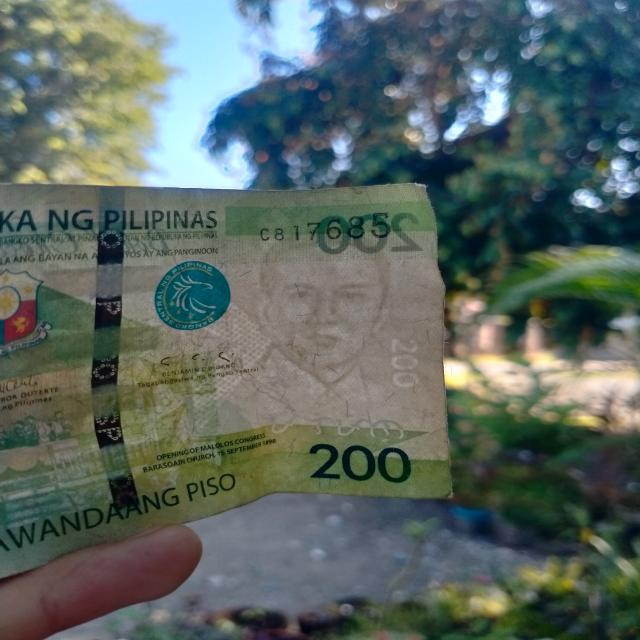security_thread: (92, 186, 138, 548)
see_through_mark: (253, 414, 413, 445)
value_watermark: (381, 326, 425, 394)
watermark: (213, 222, 400, 420)
